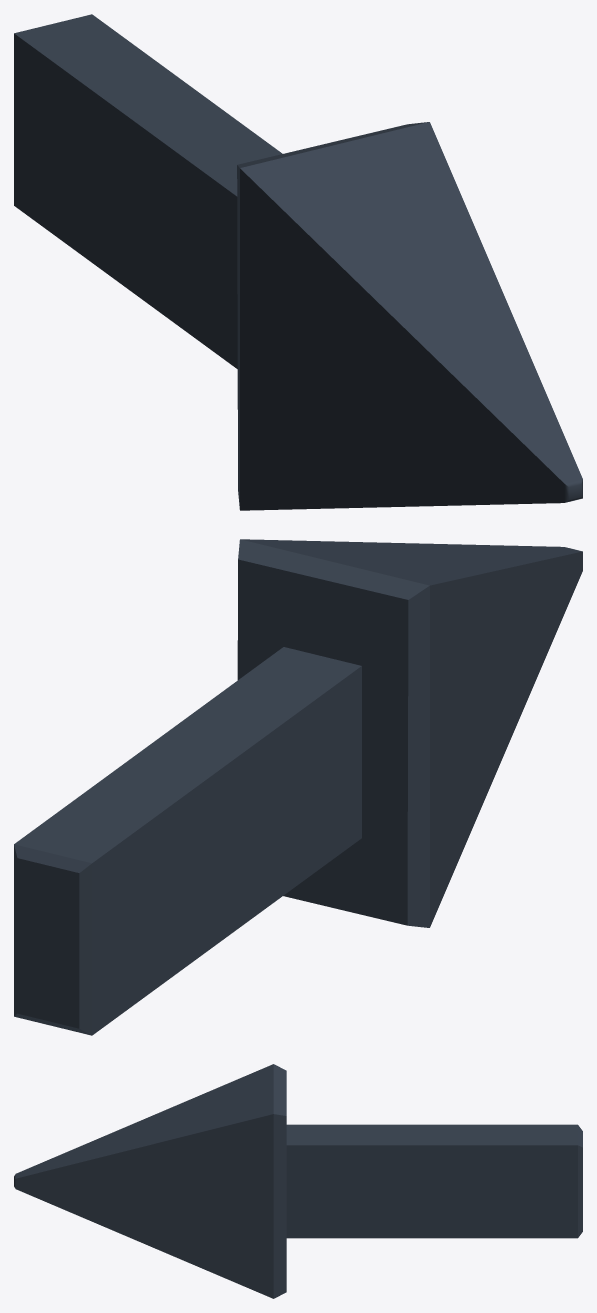
Rendered from Arrow.fbx.
3 views of the same model, one above another, from view 1: azimuth 30°, elevation 25°; view 2: azimuth 150°, elevation 25°; view 3: azimuth 270°, elevation 25° (orthographic). The views are drawn at different scales.
Parts seen in each view (by area): view 1: jiantou; view 2: jiantou; view 3: jiantou.
Part boxes in pixels (bbox=[...]): jiantou: bbox=[14, 14, 582, 510]; jiantou: bbox=[14, 539, 582, 1035]; jiantou: bbox=[14, 1064, 582, 1298].
Size of the model in its own units: 3.53 by 6.08 by 16.95.
